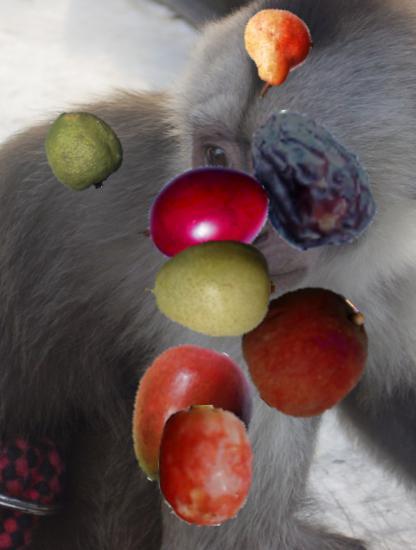Dates: (243, 107, 385, 249)
Grape: (146, 405, 268, 527)
Limes: (42, 108, 125, 191)
Mango: (113, 342, 262, 491)
Peach: (240, 285, 371, 416)
Pear: (145, 223, 275, 353), (235, 7, 325, 97)
Tamarillo: (132, 148, 272, 288)
